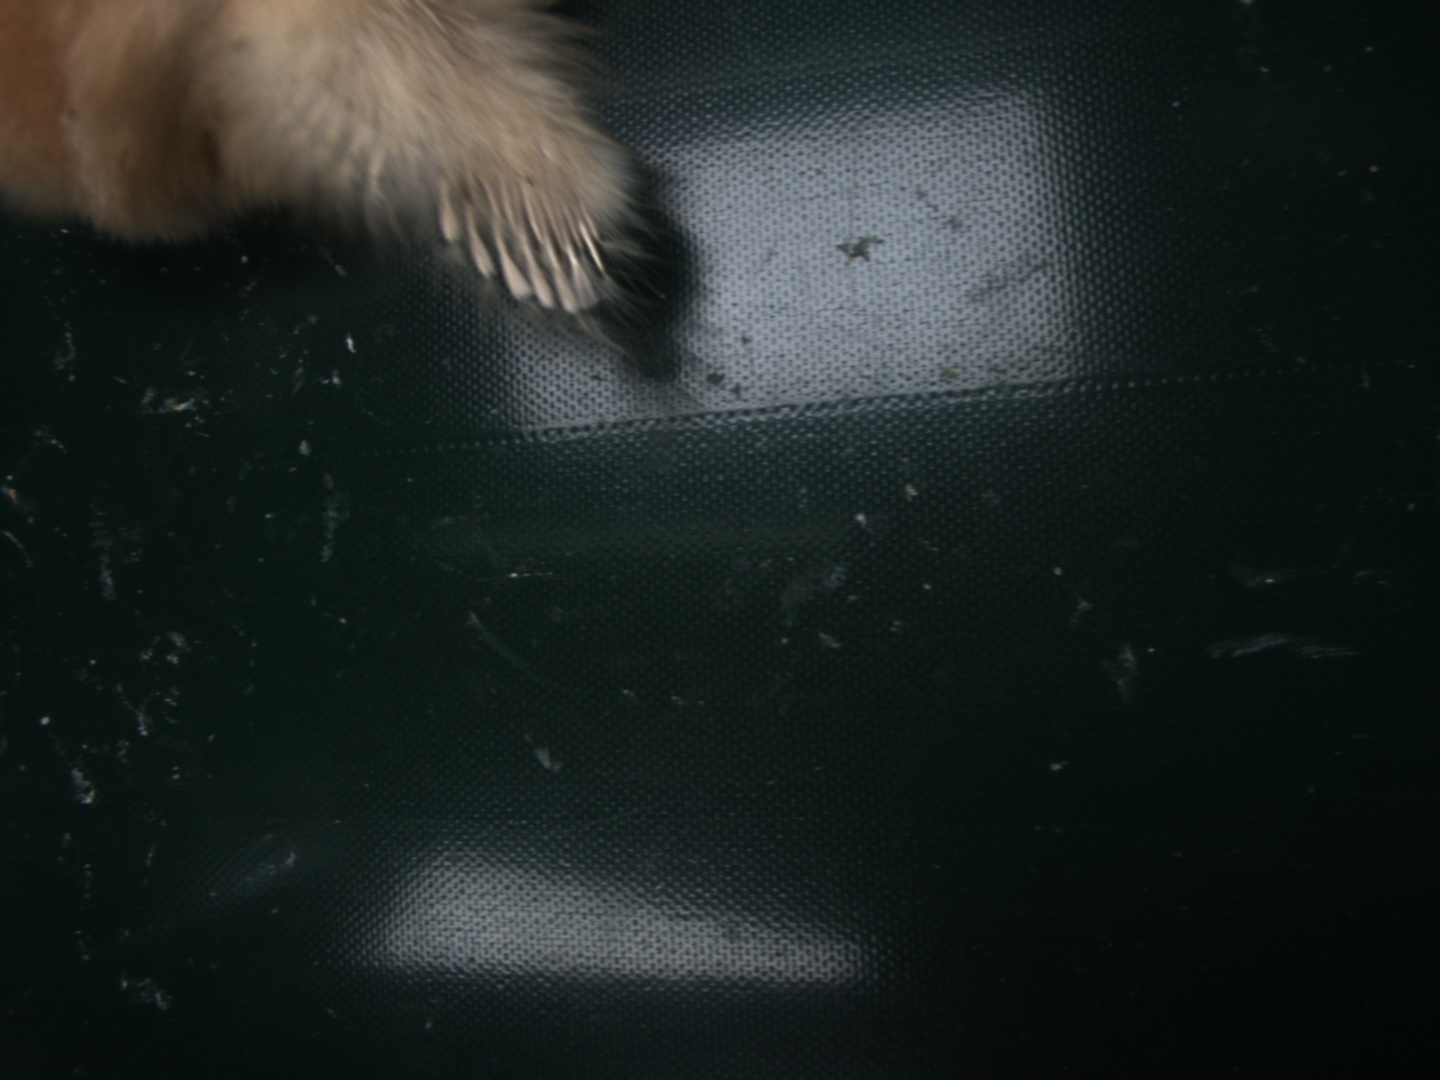female: (437, 158, 608, 314)
